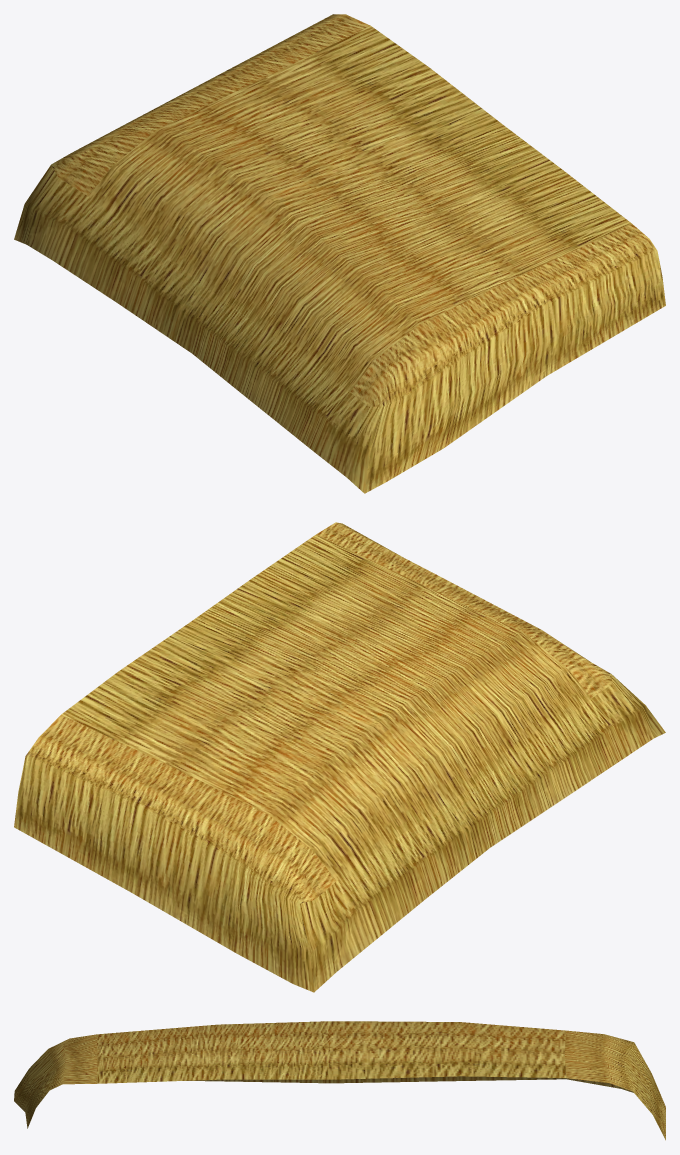
Rendered from HTOWN01_MILLROOF03.fbx.
3 renders of one model, top to bottom at view 1: azimuth 30°, elevation 25°; view 2: azimuth 150°, elevation 25°; view 3: azimuth 270°, elevation 25°, orthographic. The views are drawn at different scales.
Parts seen in each view (by area): view 1: HTOWN01_MILLROOF03; view 2: HTOWN01_MILLROOF03; view 3: HTOWN01_MILLROOF03.
Part boxes in pixels (x1=…): HTOWN01_MILLROOF03: x1=14, y1=14, x2=665, y2=493; HTOWN01_MILLROOF03: x1=14, y1=522, x2=665, y2=992; HTOWN01_MILLROOF03: x1=14, y1=1021, x2=665, y2=1140.
Bounding box in the file's own units: 43257 × 22825 × 85348.
Materials: 4 (4 with a texture image).
